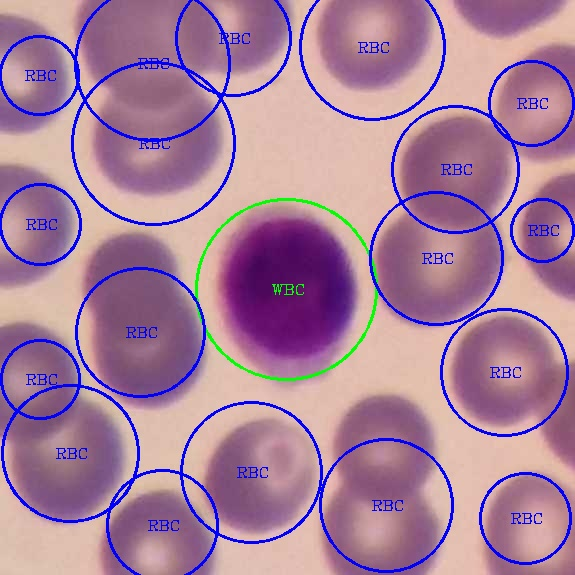RBC: (84, 66, 230, 205), (371, 199, 511, 331), (1, 392, 133, 530), (72, 1, 223, 108), (198, 414, 319, 541), (392, 111, 513, 235), (83, 225, 194, 355), (444, 312, 559, 434), (327, 389, 441, 509), (79, 301, 207, 407), (318, 471, 448, 572), (310, 0, 439, 97), (0, 157, 81, 297), (1, 313, 85, 448), (96, 487, 222, 573), (1, 7, 76, 145), (494, 37, 573, 167), (172, 0, 301, 77), (480, 467, 573, 572), (513, 164, 574, 310)
WBC: (208, 198, 368, 388)
